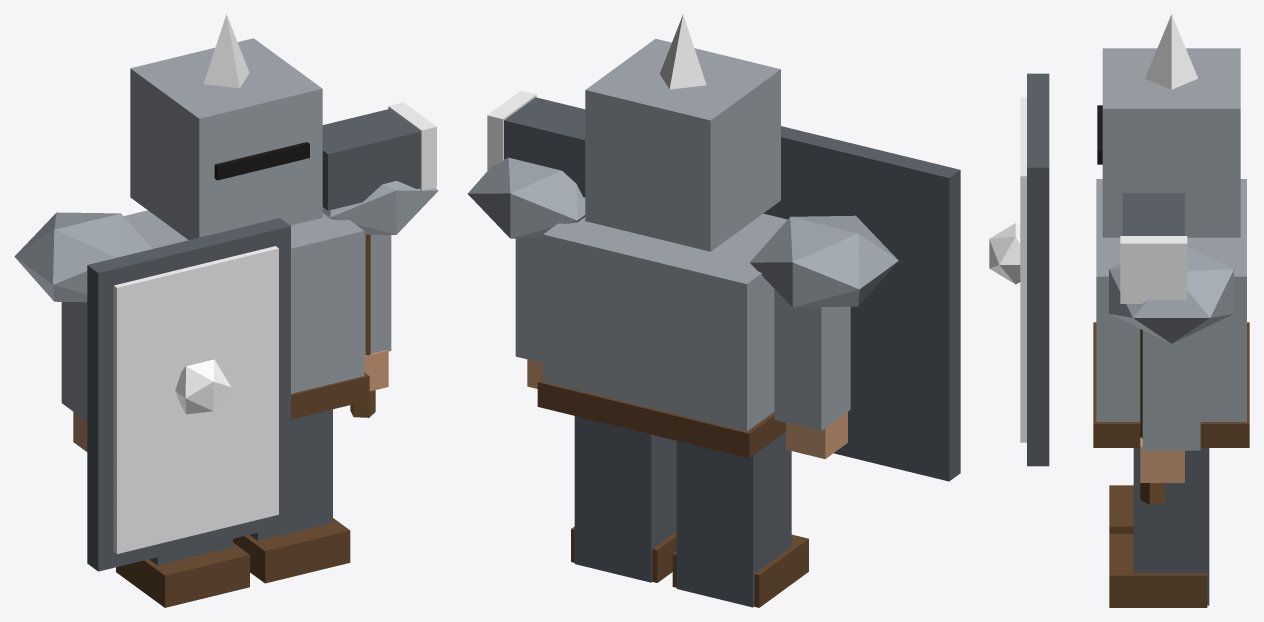
The model's file is tank.glb.
3 views of the same model, side by side, from view 1: azimuth 30°, elevation 25°; view 2: azimuth 150°, elevation 25°; view 3: azimuth 270°, elevation 25° (orthographic).
Visible parts, largest first — view 1: body, armL, weapon, armR; view 2: body, armL, armR, weapon; view 3: body, armR, weapon.
Boxes of the visible parts, left/top/right/bottom form: body: left=87, top=14, right=369, bottom=607; armL: left=14, top=212, right=152, bottom=451; weapon: left=322, top=102, right=436, bottom=417; armR: left=322, top=181, right=438, bottom=391; body: left=537, top=14, right=960, bottom=607; armL: left=750, top=215, right=898, bottom=458; armR: left=467, top=157, right=585, bottom=388; weapon: left=487, top=90, right=585, bottom=197; body: left=989, top=14, right=1249, bottom=607; armR: left=1109, top=247, right=1233, bottom=482; weapon: left=1120, top=193, right=1187, bottom=504.
Bounding box in the file's own units: 1.02 × 1.36 × 0.585.
